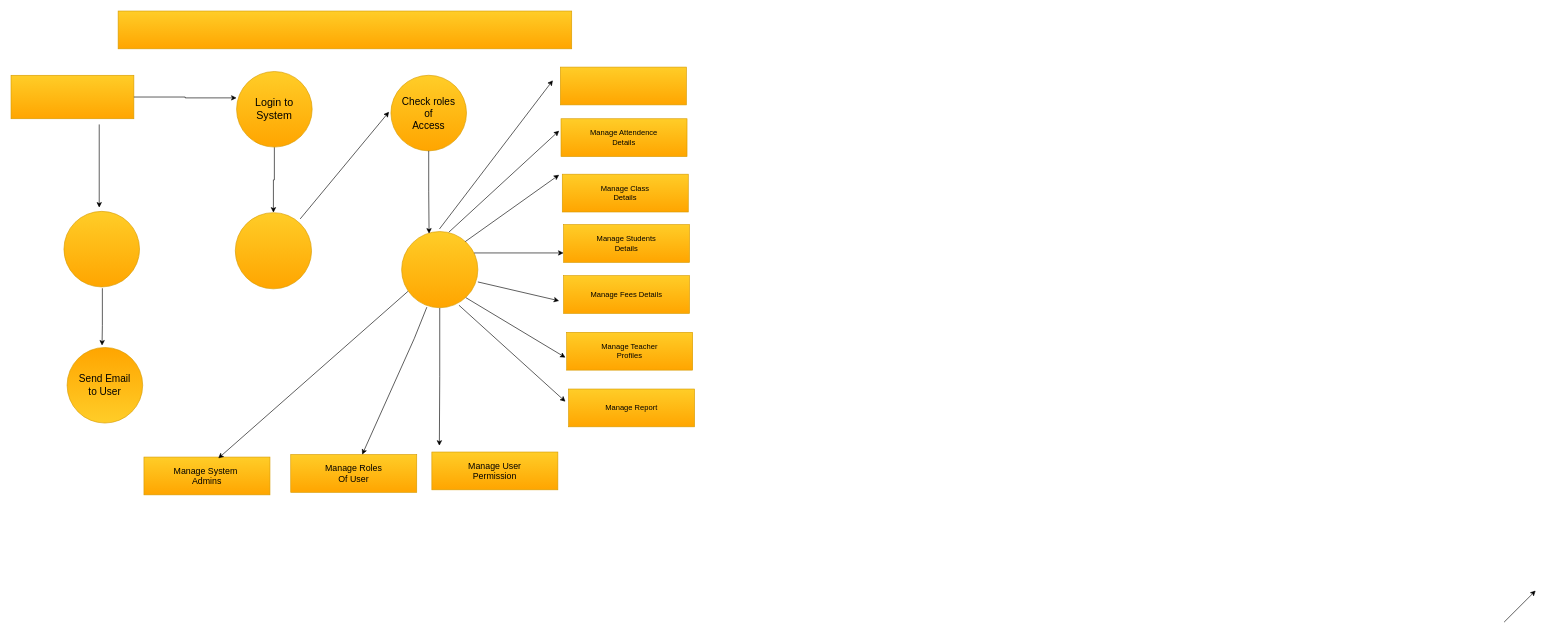
Image size: 1552x638. Some labels were removed from this diagram. The shapes that lost their labels are listed below. From the top down, each one's centre as x and y in pixels, then its label:
At (344,29): "Student information system".
At (72,97): "Admin".
At (623,85): "Manage Timetable Details".
At (101,249): "Forget Password".
At (273,250): "Check Credentials".
At (439,269): "Manager Modular".
